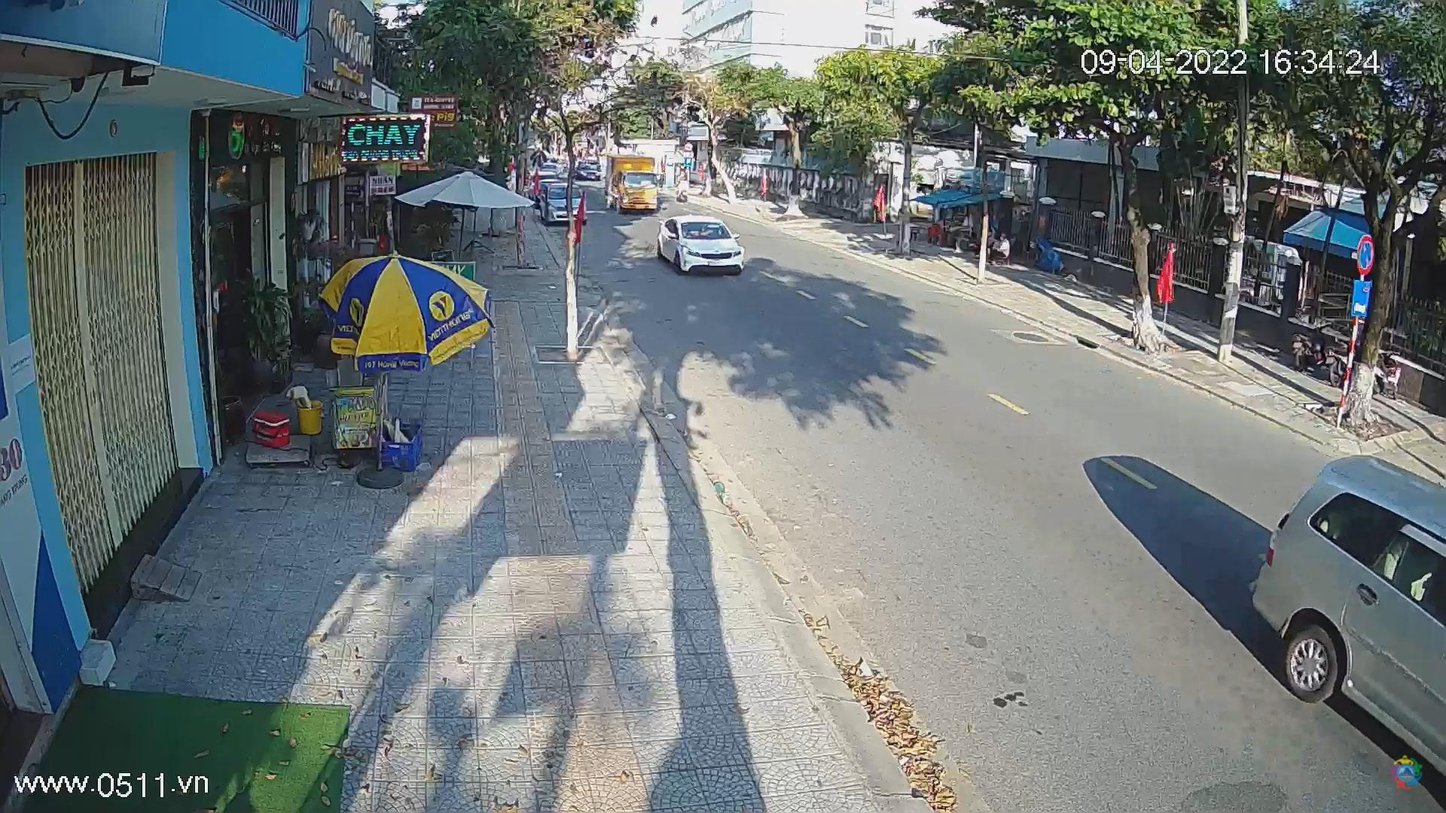car: (660, 218, 747, 275)
